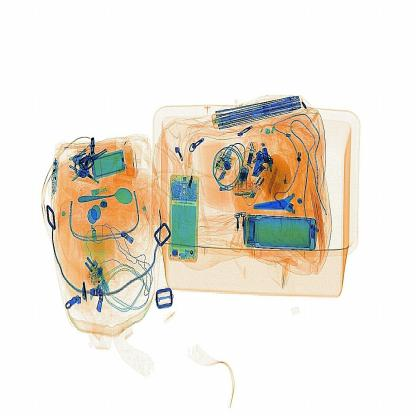gun: (248, 188, 308, 218)
